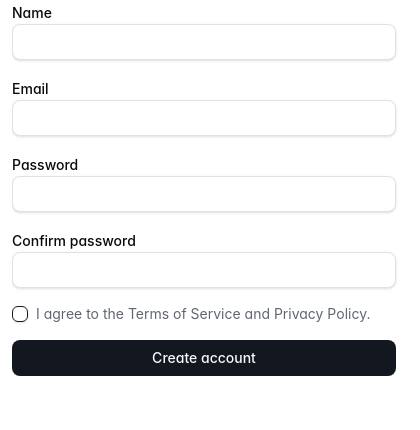
Test: SignupForm › requires accepting the terms
This screenshot has width=420, height=430.
Type "Sarah Chen" into the field labelled "Name" at x=204, y=42, box [12,24,396,60]
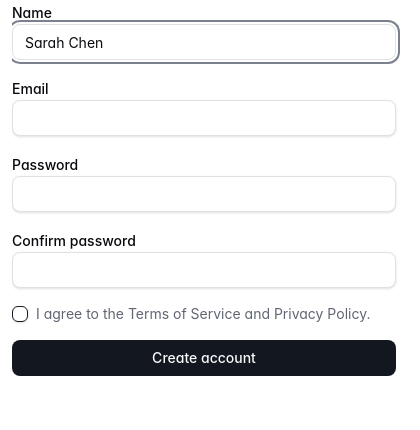
Type "sarah@acme.io" into the field labelled "Email" at x=204, y=118, box [12,100,396,136]
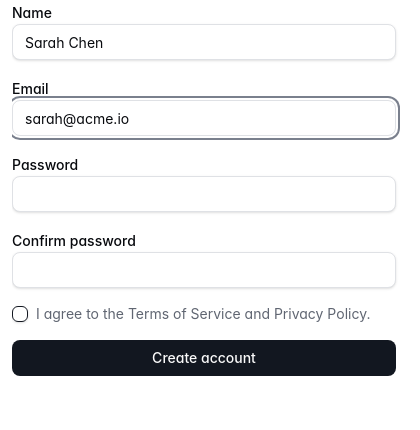
Type "password123" into the password field labelled "Password" at x=204, y=194, box [12,176,396,212]
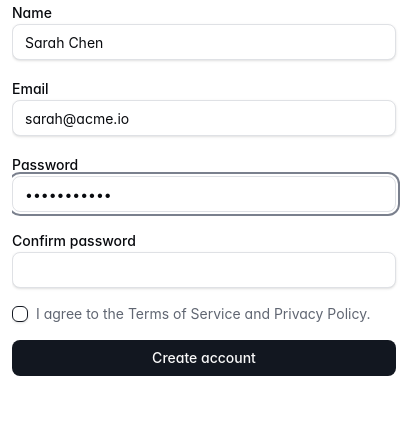
Type "password123" into the password field labelled "Confirm password" at x=204, y=270, box [12,252,396,288]
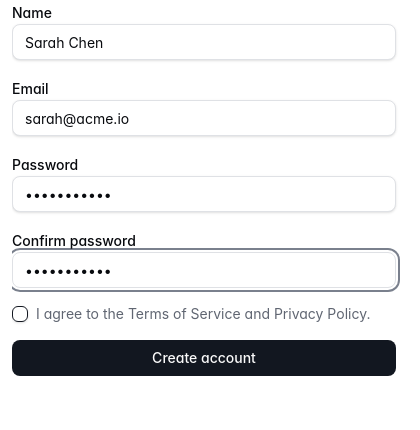
Click the button "Create account" at x=204, y=358, box [12,340,396,376]
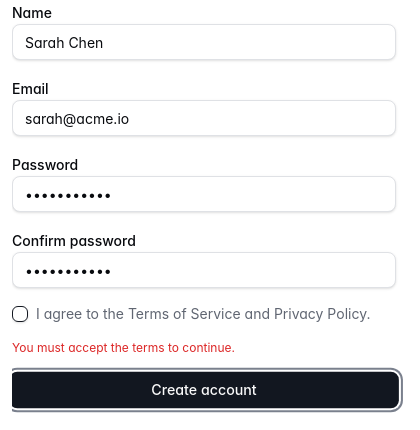
Expected: the text "You must accept the terms to continue." is shown, [12,340,235,355]
